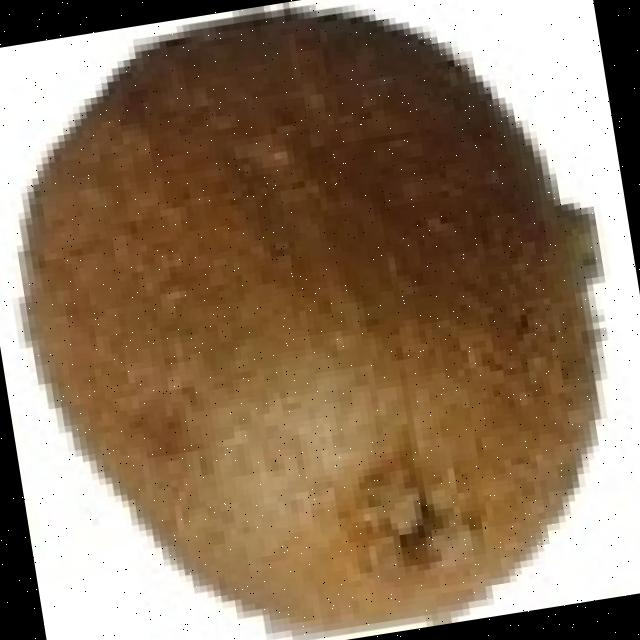kiwi: (16, 28, 586, 640)
